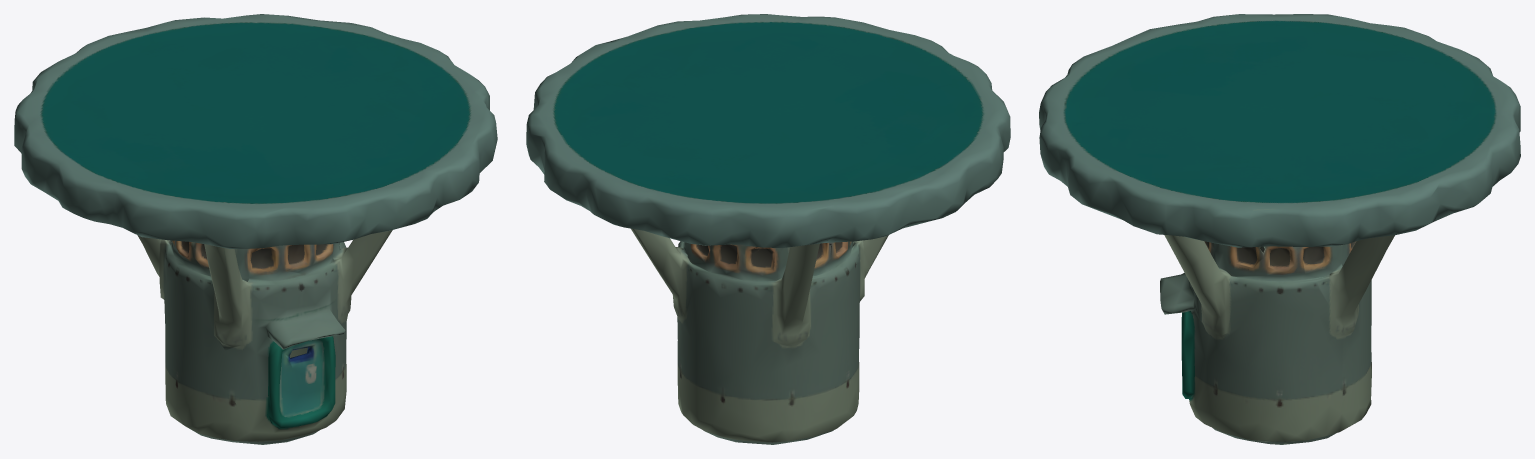
Rendered from kupol-grib.glb.
3 views of the same model, side by side, from view 1: azimuth 30°, elevation 25°; view 2: azimuth 150°, elevation 25°; view 3: azimuth 270°, elevation 25° (orthographic).
Visible parts, largest first — view 1: geometry_0; view 2: geometry_0; view 3: geometry_0.
Boxes of the visible parts, bbox=[...] form: geometry_0: bbox=[14, 14, 497, 444]; geometry_0: bbox=[526, 14, 1010, 444]; geometry_0: bbox=[1039, 14, 1520, 444].
Size of the model in its own units: 1 by 0.6907 by 1.
Materials: 1 (1 with a texture image).
